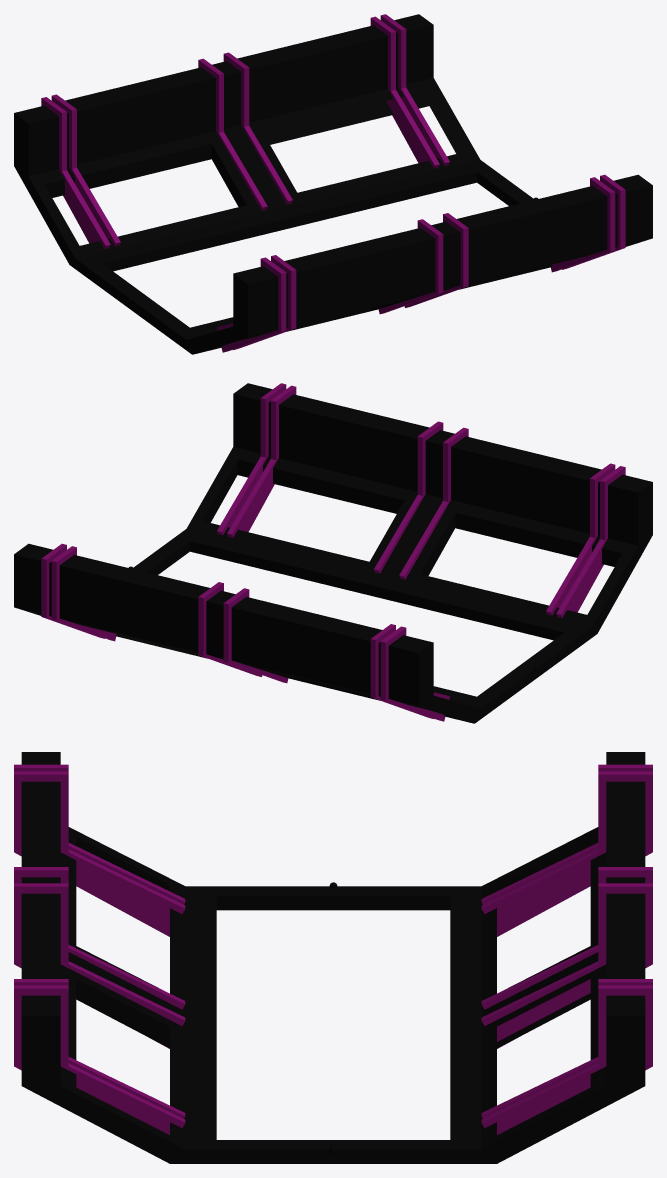
Rendered from trail.glb.
3 renders of one model, top to bottom at view 1: azimuth 30°, elevation 25°; view 2: azimuth 150°, elevation 25°; view 3: azimuth 270°, elevation 25°, orthographic. The views are drawn at different scales.
Visible parts, largest first — view 1: Fork, Delimiter3, Delimiter2, Delimiter1, Delimiter2.001, Delimiter4, Delimiter1.001; view 2: Fork, Delimiter3, Delimiter2, Delimiter1, Delimiter2.001, Delimiter4, Delimiter1.001; view 3: Fork, Delimiter4, Delimiter1, Delimiter1.001, Delimiter2.001, Delimiter3, Delimiter2.
Part boxes in pixels (left/top/right/bottom): Fork: left=14, top=14, right=652, bottom=354; Delimiter3: left=41, top=97, right=286, bottom=352; Delimiter2: left=370, top=16, right=615, bottom=272; Delimiter1: left=380, top=14, right=625, bottom=269; Delimiter2.001: left=198, top=58, right=443, bottom=314; Delimiter4: left=51, top=94, right=296, bottom=349; Delimiter1.001: left=223, top=52, right=468, bottom=307; Fork: left=14, top=383, right=652, bottom=723; Delimiter3: left=380, top=466, right=625, bottom=721; Delimiter2: left=51, top=385, right=296, bottom=641; Delimiter1: left=41, top=383, right=286, bottom=638; Delimiter2.001: left=223, top=427, right=468, bottom=683; Delimiter4: left=370, top=463, right=615, bottom=718; Delimiter1.001: left=198, top=421, right=443, bottom=676; Fork: left=21, top=752, right=645, bottom=1163; Delimiter4: left=14, top=771, right=652, bottom=936; Delimiter1: left=14, top=985, right=652, bottom=1134; Delimiter1.001: left=14, top=883, right=652, bottom=1048; Delimiter2.001: left=14, top=867, right=652, bottom=1009; Delimiter3: left=14, top=764, right=652, bottom=904; Delimiter2: left=14, top=979, right=652, bottom=1118.
Bounding box in the file's own units: 8.1 × 2.3 × 8.2.
